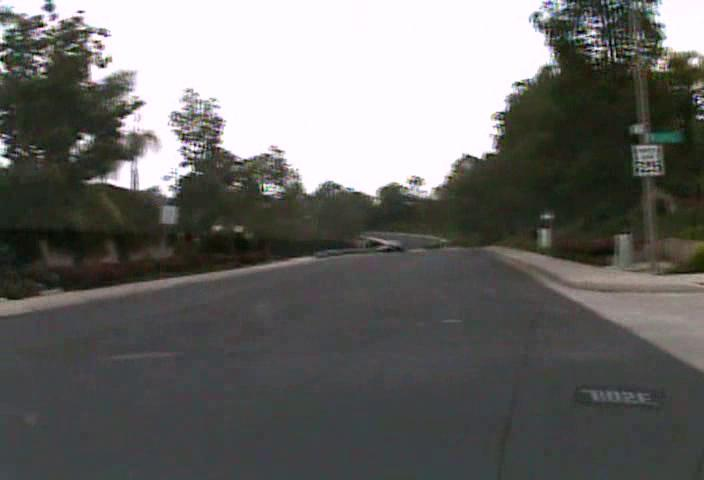speedLimit25: (630, 142, 664, 177)
